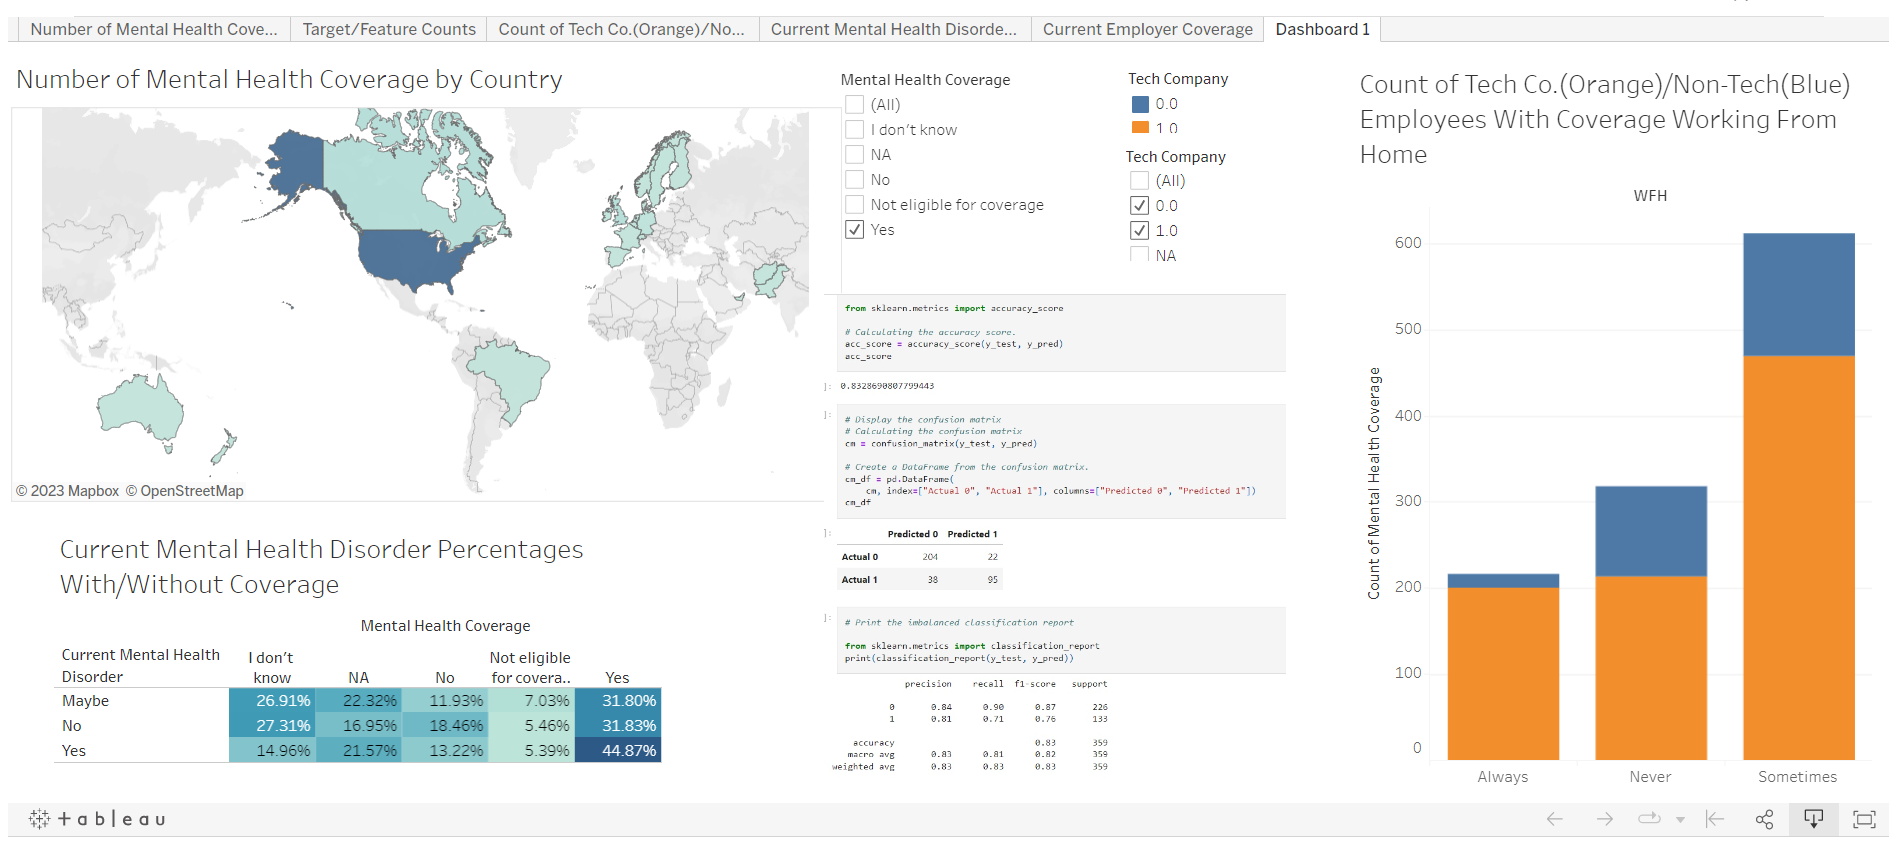

This screenshot's page, from the dashboard's own definition file:
{"tool":"tableau","page":{"name":"Dashboard 1","canvas":[1000,1000],"units":"permille","ordinal":0},"visuals":[{"type":"worksheet","title":"Number of Mental Health Coverage by Country","mark":"Automatic","box":[1.5,11.8,441.5,592.1]},{"type":"worksheet","title":"Count of Tech Co.(Orange)/Non-Tech(Blue) Employees With Coverage Working From Home","mark":"Automatic","rows":["MENTAL_HEALTH_COVERAGE"],"cols":["WFH"],"box":[715.5,17.7,275.5,963.2]},{"type":"legend","title":"Count of Tech Co.(Orange)/Non-Tech(Blue) Employees With Coverage Working From Home","param":"[federated.02xdez90ereima1a38fdu17nb9f2].[none:TECH_COMPANY:nk]","box":[595.5,30.9,105.7,85.4]},{"type":"filter","title":"Number of Mental Health Coverage by Country","param":"[federated.02xdez90ereima1a38fdu17nb9f2].[none:MENTAL_HEALTH_COVERAGE:nk]","box":[442.6,31.8,121,275.3]},{"type":"filter","title":"Count of Tech Co.(Orange)/Non-Tech(Blue) Employees With Coverage Working From Home","param":"[federated.02xdez90ereima1a38fdu17nb9f2].[none:TECH_COMPANY:nk]","box":[594,132.6,120.8,153.2]},{"type":"image","param":"Image/FP_ML_acc.png","box":[434,328.4,288.3,656.9]},{"type":"worksheet","title":"Current Mental Health Disorder Percentages With/Without Coverage","mark":"Square","rows":["CURRENT_MENTAL_HEALTH_DISORDER"],"cols":["MENTAL_HEALTH_COVERAGE"],"box":[24.9,631.8,368.3,332.8]}]}

Visuals, with their boxes on the dashboard's canvas, which has no fixed pixel size, in thousandths of its width and height (x1, y1, x2, y2). These are canvas units, not pixel positions in the 1891x848 screenshot, which may show the page scaled, cropped or inside an application window:
"Number of Mental Health Coverage by Country" worksheet: 2:12:443:604
"Count of Tech Co.(Orange)/Non-Tech(Blue) Employees With Coverage Working From Home" worksheet: 716:18:991:981
"Count of Tech Co.(Orange)/Non-Tech(Blue) Employees With Coverage Working From Home" legend: 596:31:701:116
"Number of Mental Health Coverage by Country" filter: 443:32:564:307
"Count of Tech Co.(Orange)/Non-Tech(Blue) Employees With Coverage Working From Home" filter: 594:133:715:286
image: 434:328:722:985
"Current Mental Health Disorder Percentages With/Without Coverage" worksheet (Square marks): 25:632:393:965
